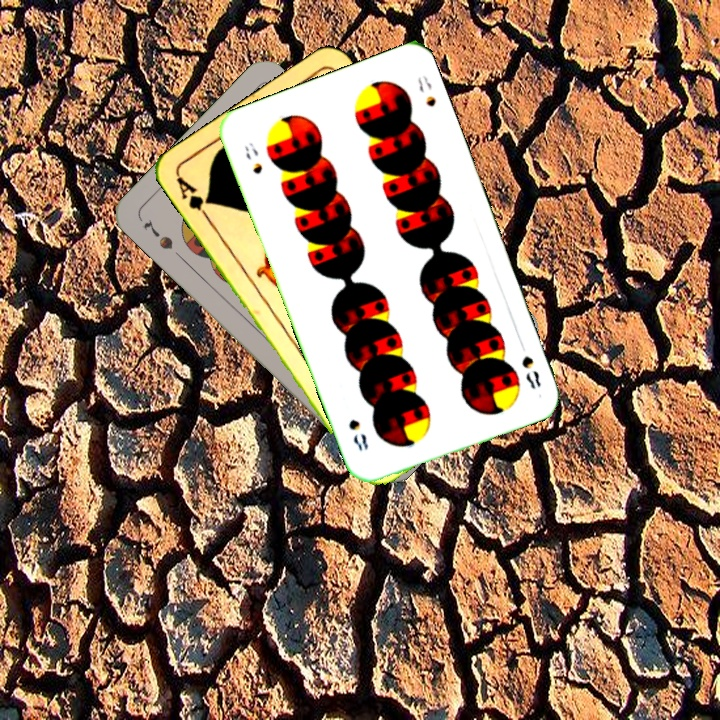GA: (172, 172, 214, 224)
S7: (139, 216, 176, 253)
S8: (517, 351, 544, 392), (241, 138, 265, 177)
